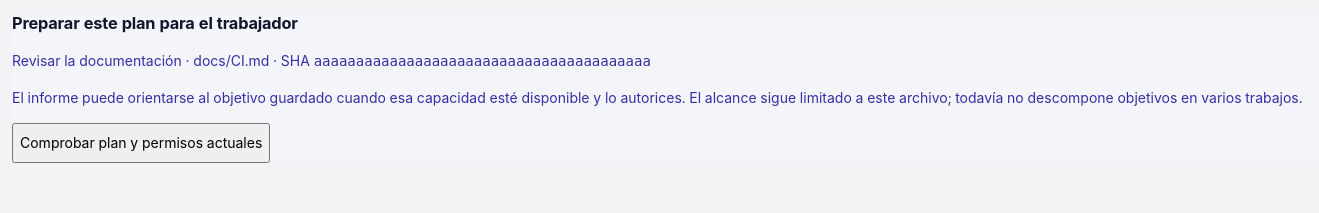
Test case: blocks unavailable or mismatched plans {"control_state":"paused"}
What coordinates should you click on to do the following:
click the button "Comprobar plan y permisos actuales"
I would click on:
 (141, 143)
Its box is [12, 123, 270, 163].
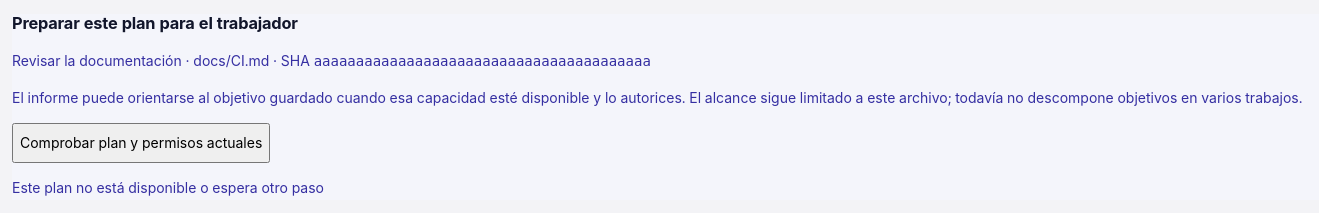
Now the message "Este plan no está disponible o espera otro paso" is shown, box [12, 179, 324, 196]
